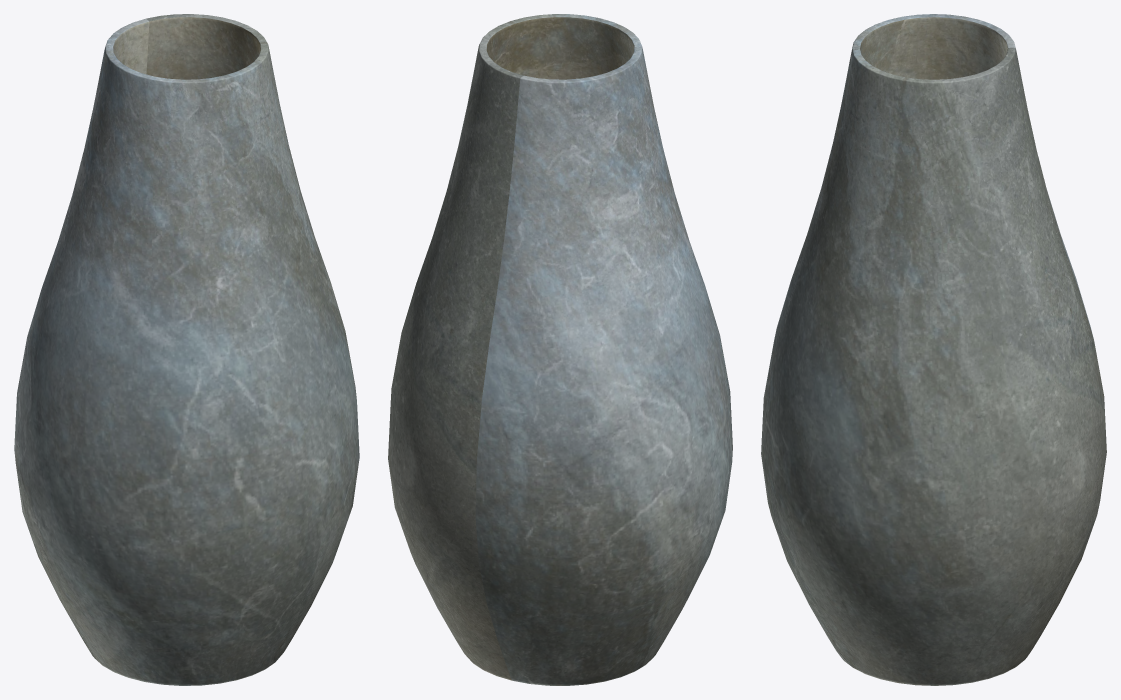
File: vase.fbx
The picture shows the model from 3 angles, left to right: view 1: azimuth 30°, elevation 25°; view 2: azimuth 150°, elevation 25°; view 3: azimuth 270°, elevation 25°; orthographic projection.
Parts seen in each view (by area): view 1: Cylinder; view 2: Cylinder; view 3: Cylinder.
Boxes of the visible parts, x1,y1,x2,y2 form: Cylinder: [14, 14, 359, 685]; Cylinder: [388, 14, 732, 685]; Cylinder: [761, 14, 1106, 685].
Bounding box in the file's own units: 13.45 × 25.63 × 13.45.
1 material, 1 textured.
